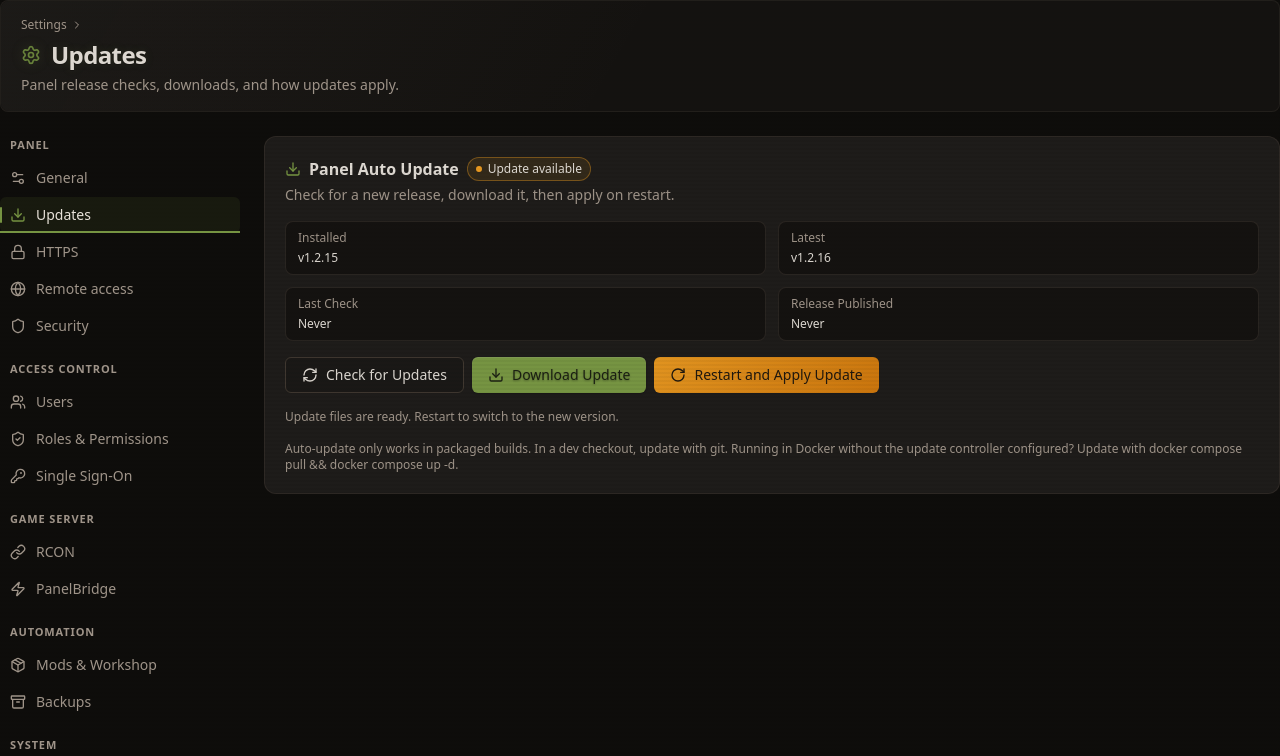
Test: Settings.tsx: restartPanelWithReconnect polls for the panel to come back instead of navigating blind › shows an in-app "hasn't come back" message instead of navigating when health checks never succeed
This screenshot has width=1280, height=756.
Click the button "Restart and Apply Update": (767, 375) x1=654 y1=357 x2=879 y2=393
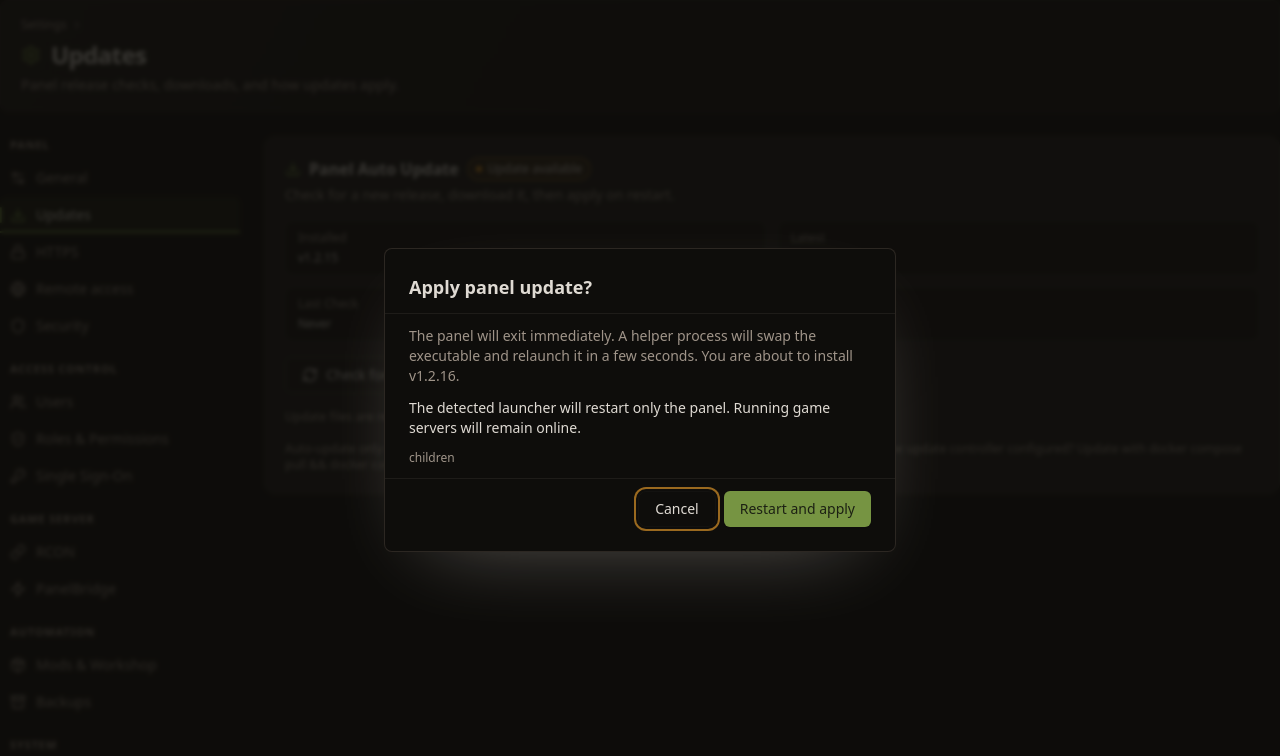
Click the button "Restart and apply": (797, 509) x1=724 y1=491 x2=871 y2=527
Wait 200000 ms
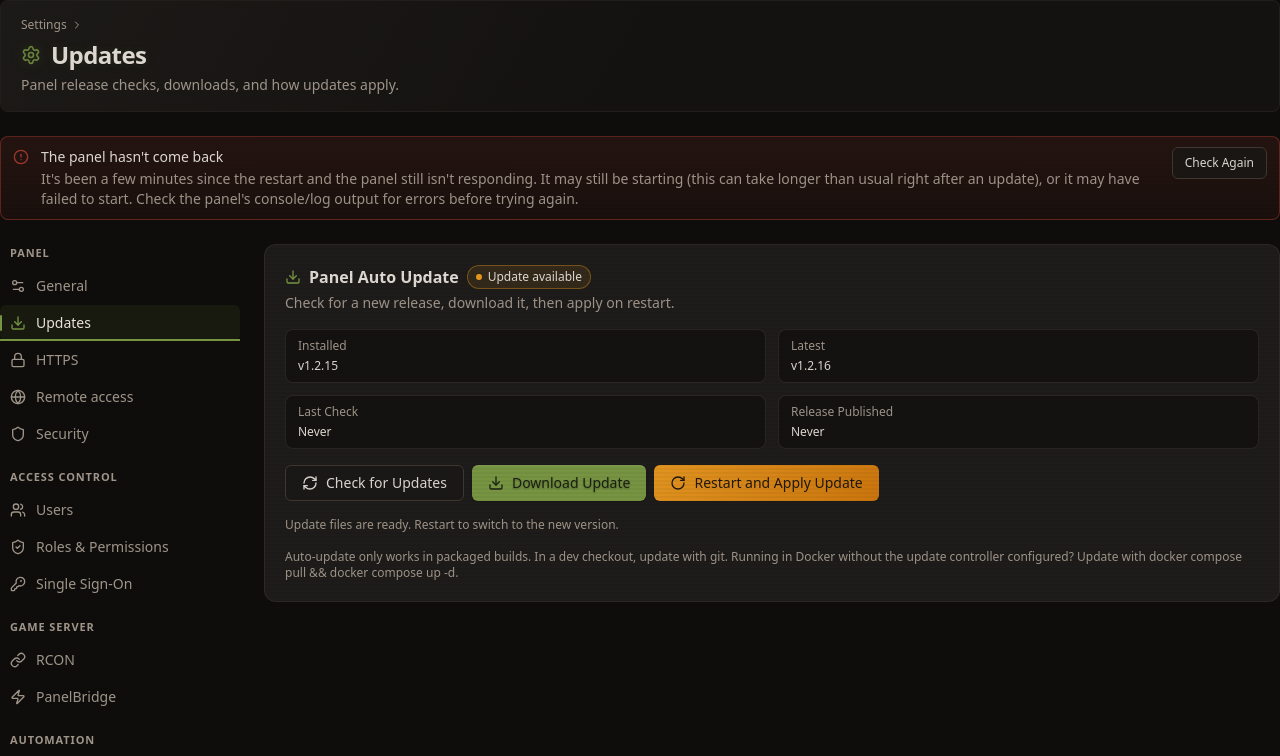
Expected: the message shows "hasn't come back", x1=41 y1=147 x2=223 y2=166
Expected: the button "Check Again" is enabled, x1=1172 y1=147 x2=1267 y2=179
